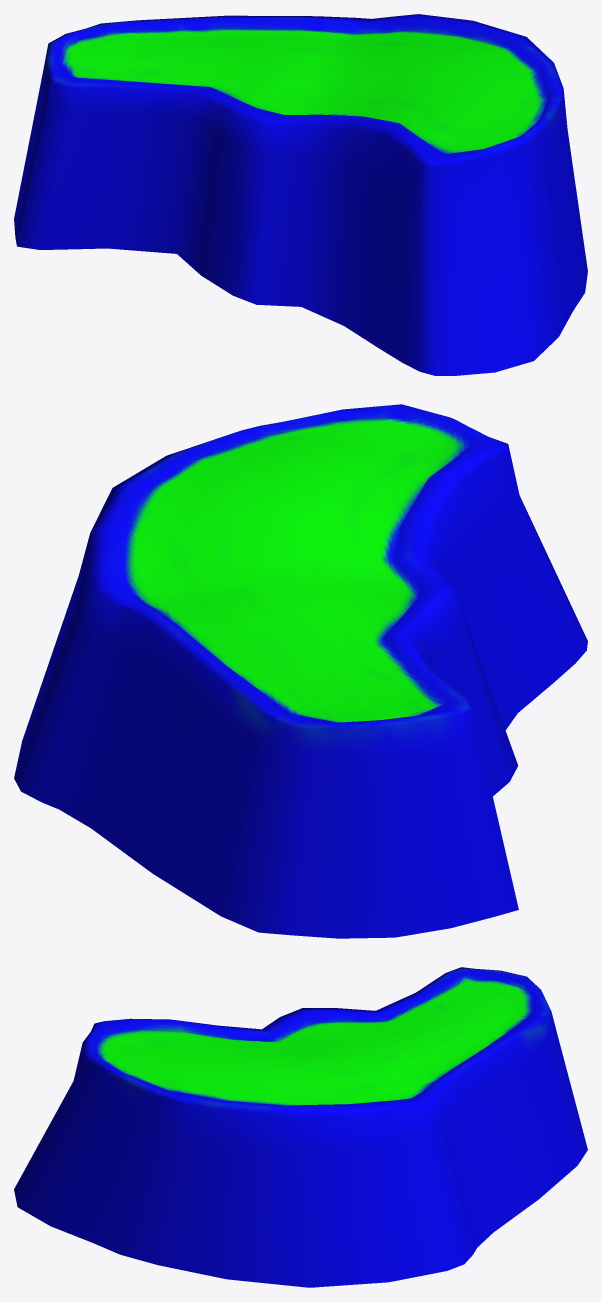
The model's file is SisterIsland1Shape.dae.
3 views of the same model, one above another, from view 1: azimuth 30°, elevation 25°; view 2: azimuth 150°, elevation 25°; view 3: azimuth 270°, elevation 25° (orthographic). The views are drawn at different scales.
Parts seen in each view (by area): view 1: SisterIsland1; view 2: SisterIsland1; view 3: SisterIsland1.
Boxes of the visible parts, x1,y1,x2,y2 form: SisterIsland1: (14, 14, 587, 375); SisterIsland1: (14, 404, 587, 938); SisterIsland1: (14, 967, 587, 1287).
Size of the model in its own units: 116 by 45.12 by 141.
